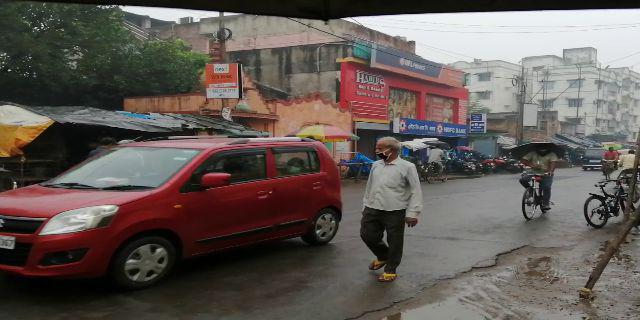Car: (1, 133, 344, 290)
Cycle: (512, 143, 560, 225)
